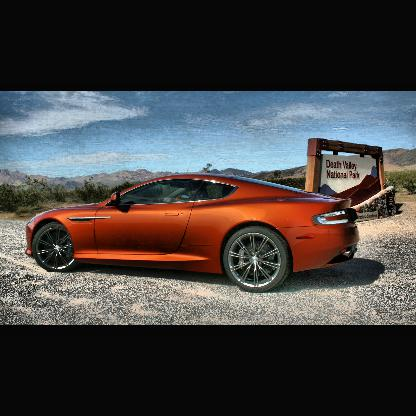Aston Martin Virage Coupe 2012: (27, 163, 357, 296)
